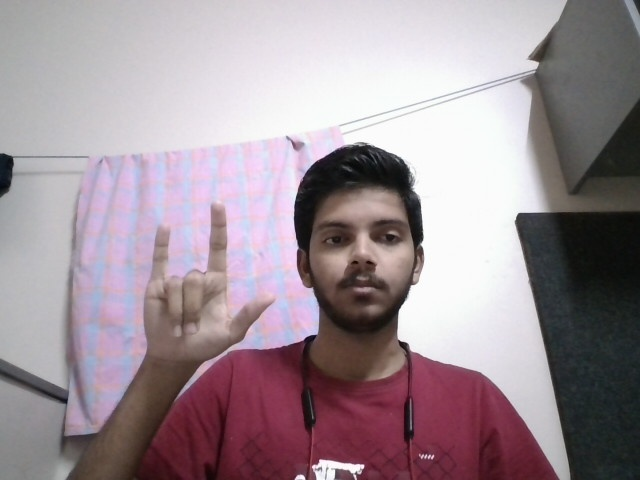I Love You: (139, 201, 280, 366)
